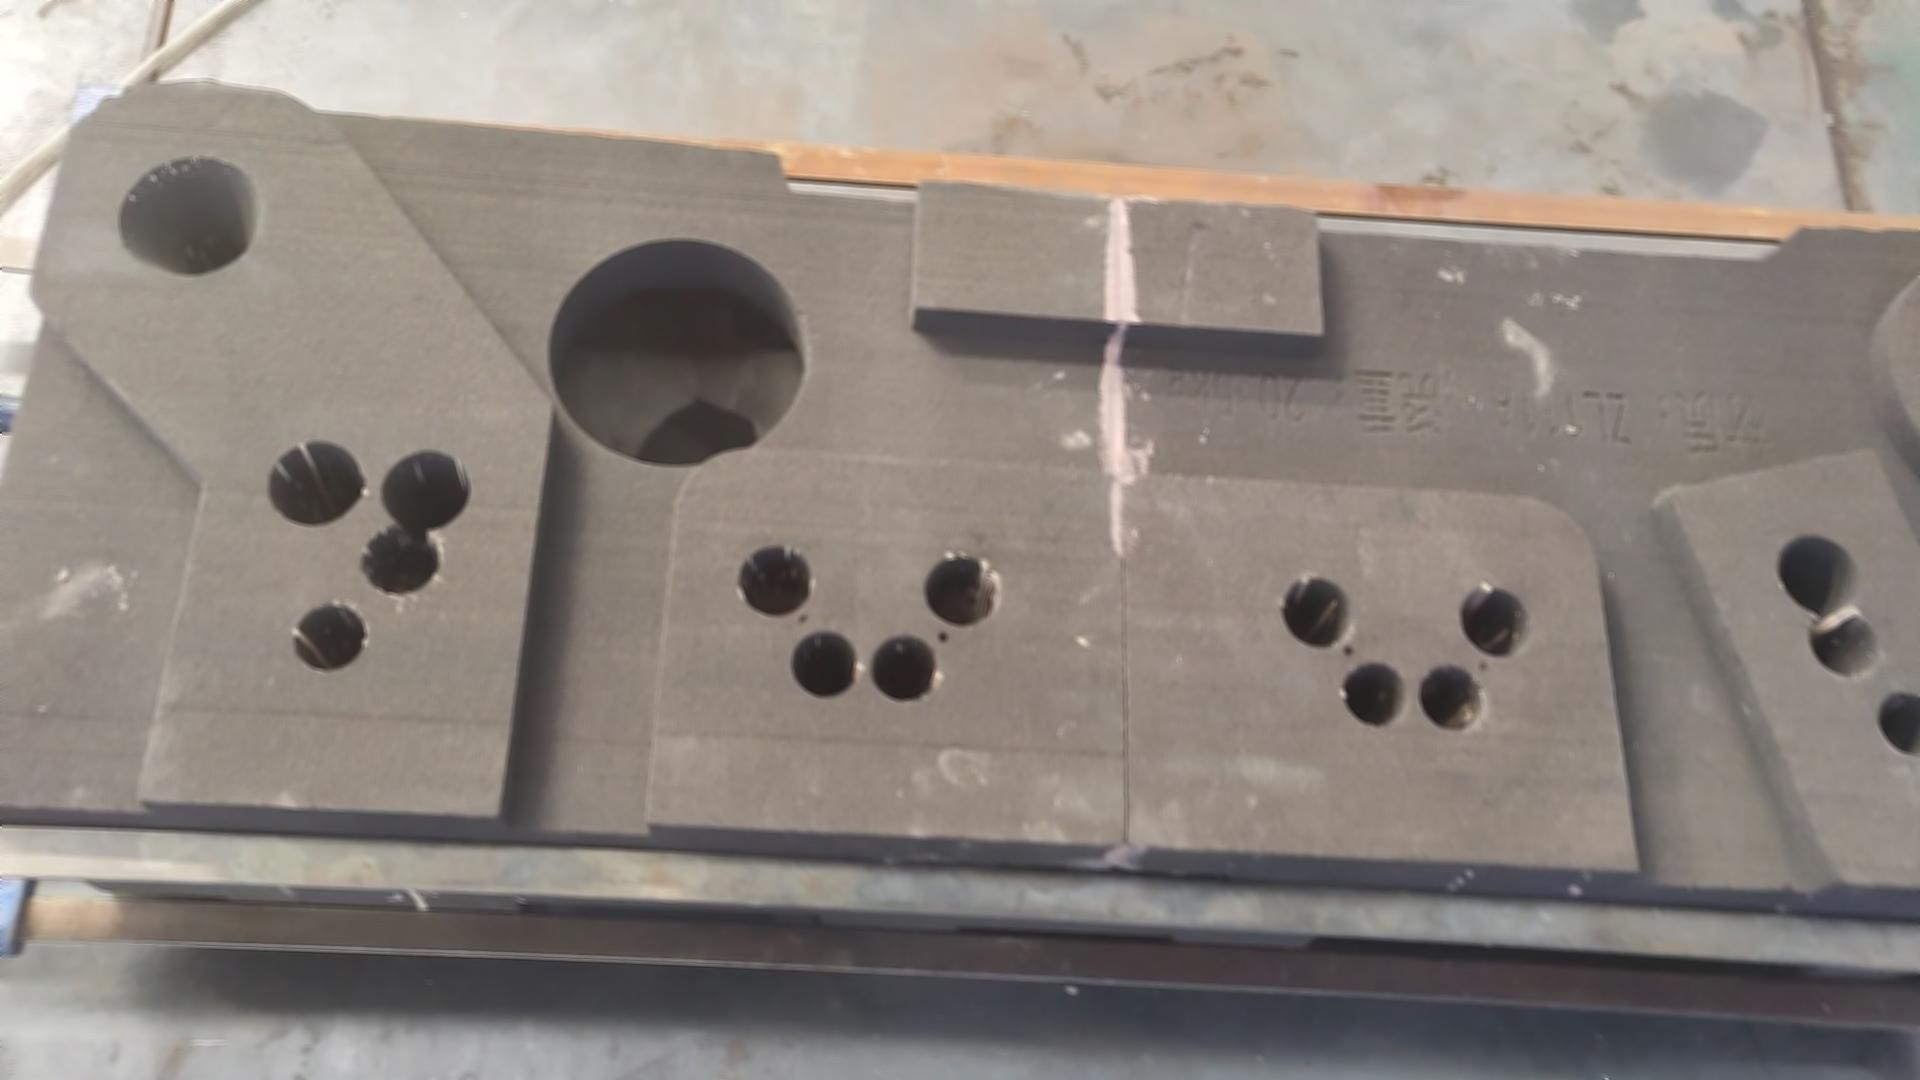pouring hole: (117, 156, 262, 276)
